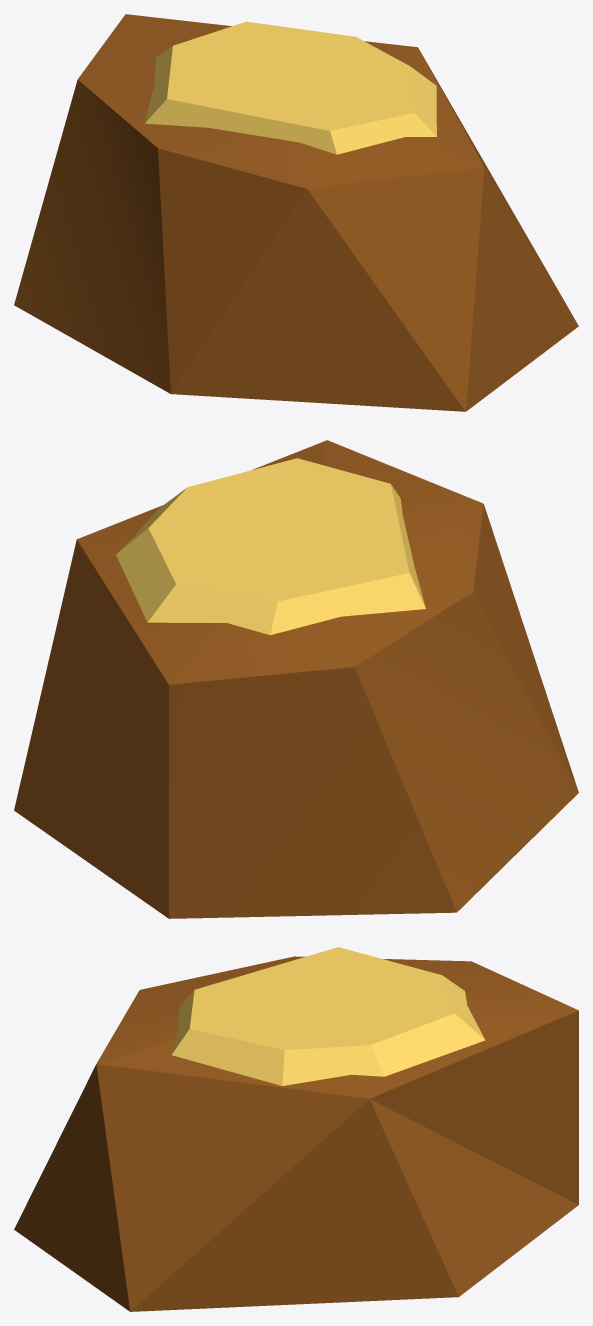
File: Rock_Small_Dirt_Sand_02.fbx
3 views of the same model, one above another, from view 1: azimuth 30°, elevation 25°; view 2: azimuth 150°, elevation 25°; view 3: azimuth 270°, elevation 25° (orthographic). The views are drawn at different scales.
Visible parts, largest first — view 1: Model; view 2: Model; view 3: Model.
Boxes of the visible parts, x1=… form: Model: x1=14, y1=14, x2=578, y2=411; Model: x1=14, y1=440, x2=578, y2=918; Model: x1=14, y1=947, x2=578, y2=1311.
Bounding box in the file's own units: 213 × 142 × 265.
